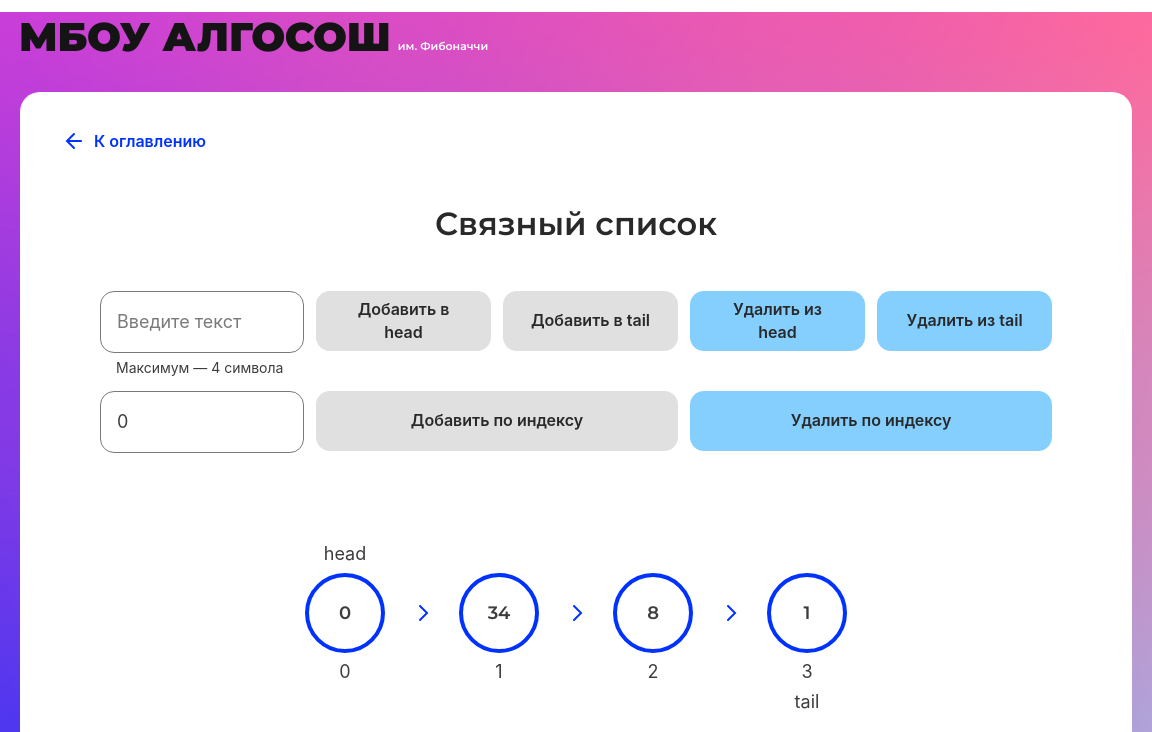
it: testing linked-list page › add to tail
Type "tail" into the field named "value" at [202, 322], box 100,291 -> 304,353
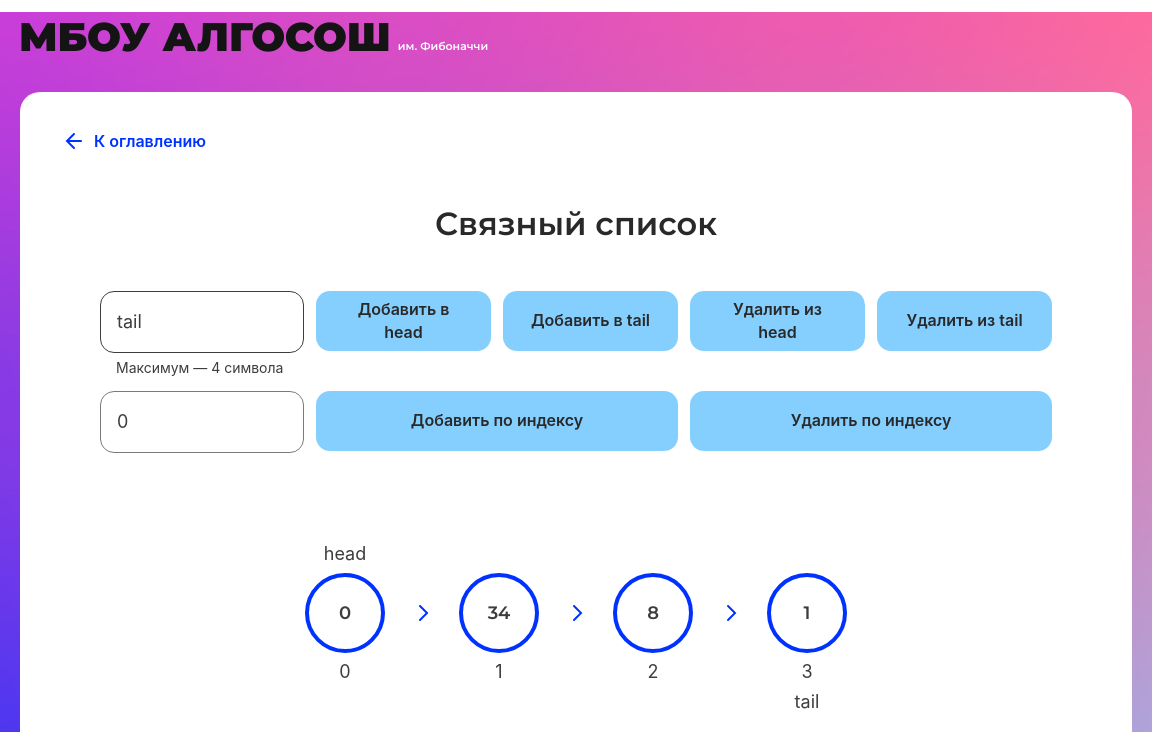
Click the button with test id "addToTail" at [591, 321], box 503,291 -> 678,351
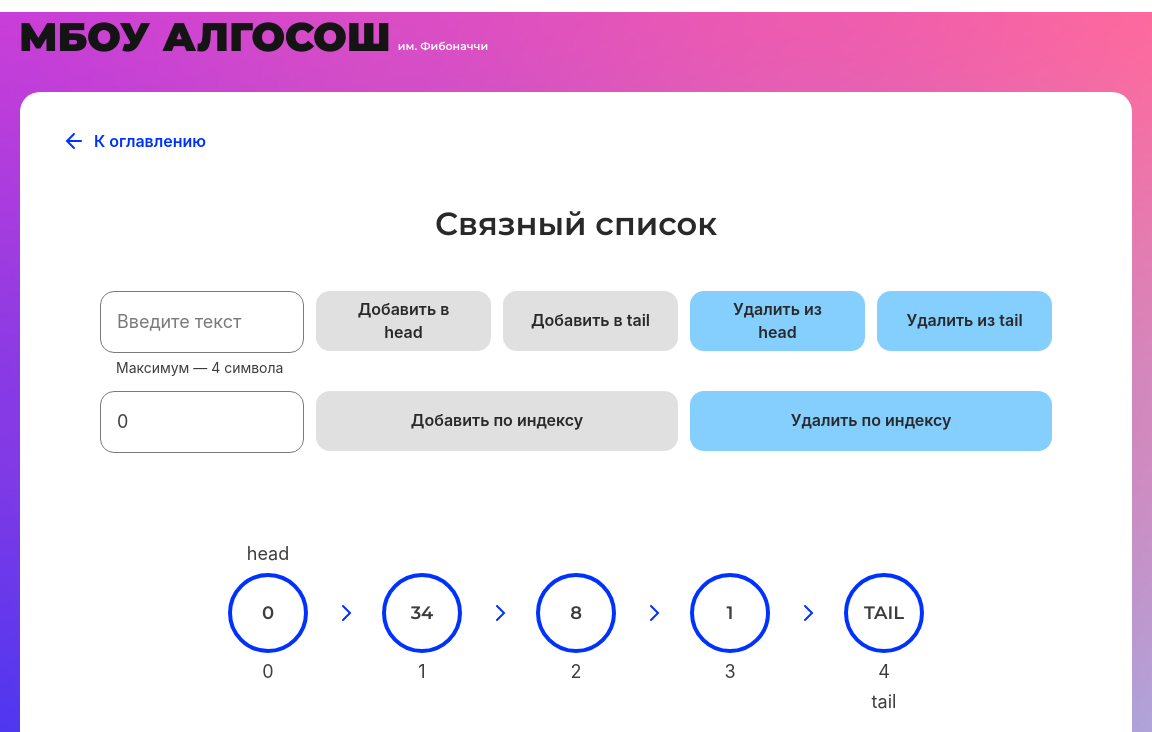
Expected: the text with test id "circle" reads "tail", 864,602 -> 904,624
